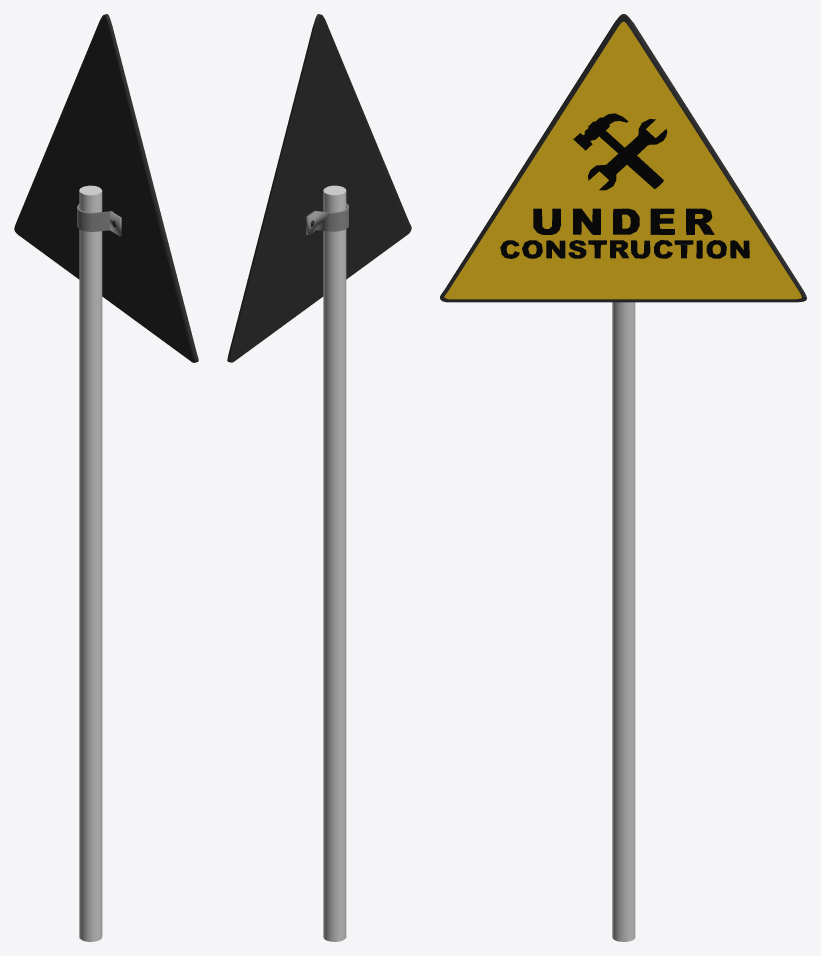
File: ConstructionSign_01.glb
The picture shows the model from 3 angles, left to right: view 1: azimuth 30°, elevation 25°; view 2: azimuth 150°, elevation 25°; view 3: azimuth 270°, elevation 25°; orthographic projection.
Visible parts, largest first — view 1: ConstructionSign_01; view 2: ConstructionSign_01; view 3: ConstructionSign_01.
Boxes of the visible parts, x1=… form: ConstructionSign_01: x1=14, y1=14, x2=198, y2=941; ConstructionSign_01: x1=227, y1=14, x2=411, y2=941; ConstructionSign_01: x1=440, y1=14, x2=806, y2=941.
Size of what is drawn, in the model's own units: 0.0816 by 2.34 by 0.8362.
1 material, 1 textured.
